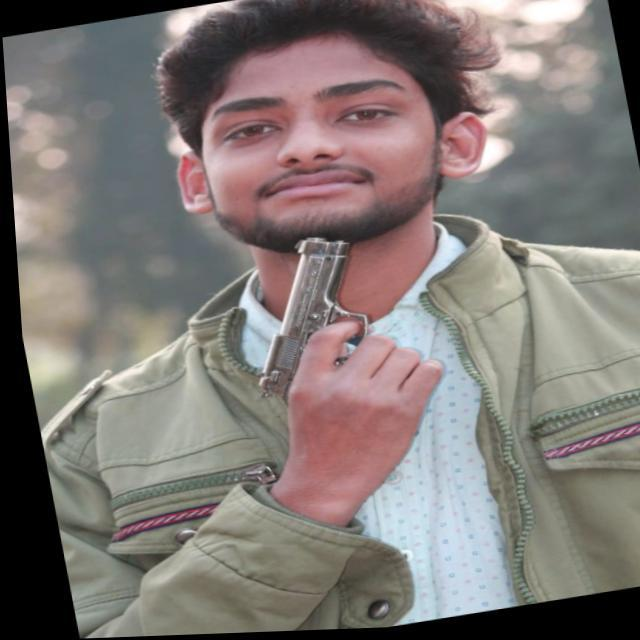weapon: (222, 220, 443, 430)
